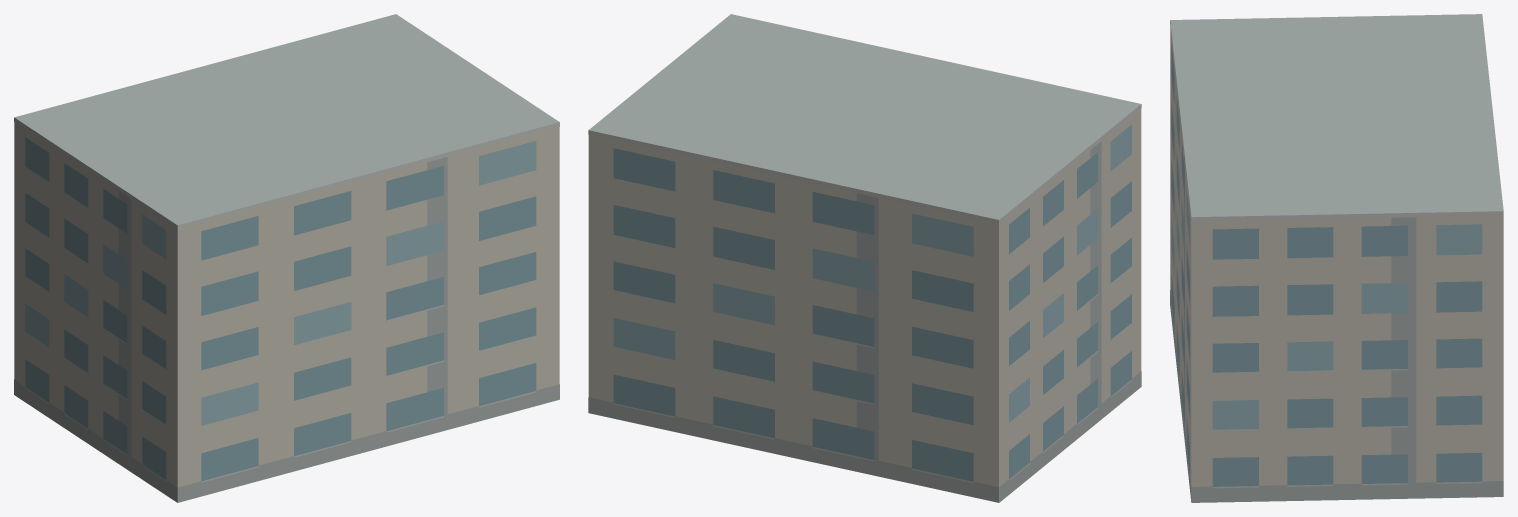
The model's file is residential-c27f4c21-fcd1-43ce-83b6-3f2650a31902.glb.
3 views of the same model, side by side, from view 1: azimuth 30°, elevation 25°; view 2: azimuth 150°, elevation 25°; view 3: azimuth 270°, elevation 25° (orthographic). The views are drawn at different scales.
Visible parts, largest first — view 1: residential-c27f4c21-fcd1-43ce-83b6-3f2650a31902.tmp; view 2: residential-c27f4c21-fcd1-43ce-83b6-3f2650a31902.tmp; view 3: residential-c27f4c21-fcd1-43ce-83b6-3f2650a31902.tmp.
Boxes of the visible parts, bbox=[...] form: residential-c27f4c21-fcd1-43ce-83b6-3f2650a31902.tmp: bbox=[14, 14, 559, 502]; residential-c27f4c21-fcd1-43ce-83b6-3f2650a31902.tmp: bbox=[588, 14, 1141, 502]; residential-c27f4c21-fcd1-43ce-83b6-3f2650a31902.tmp: bbox=[1170, 14, 1503, 502].
Size of the model in its own units: 23.27 by 15.25 by 16.14.
